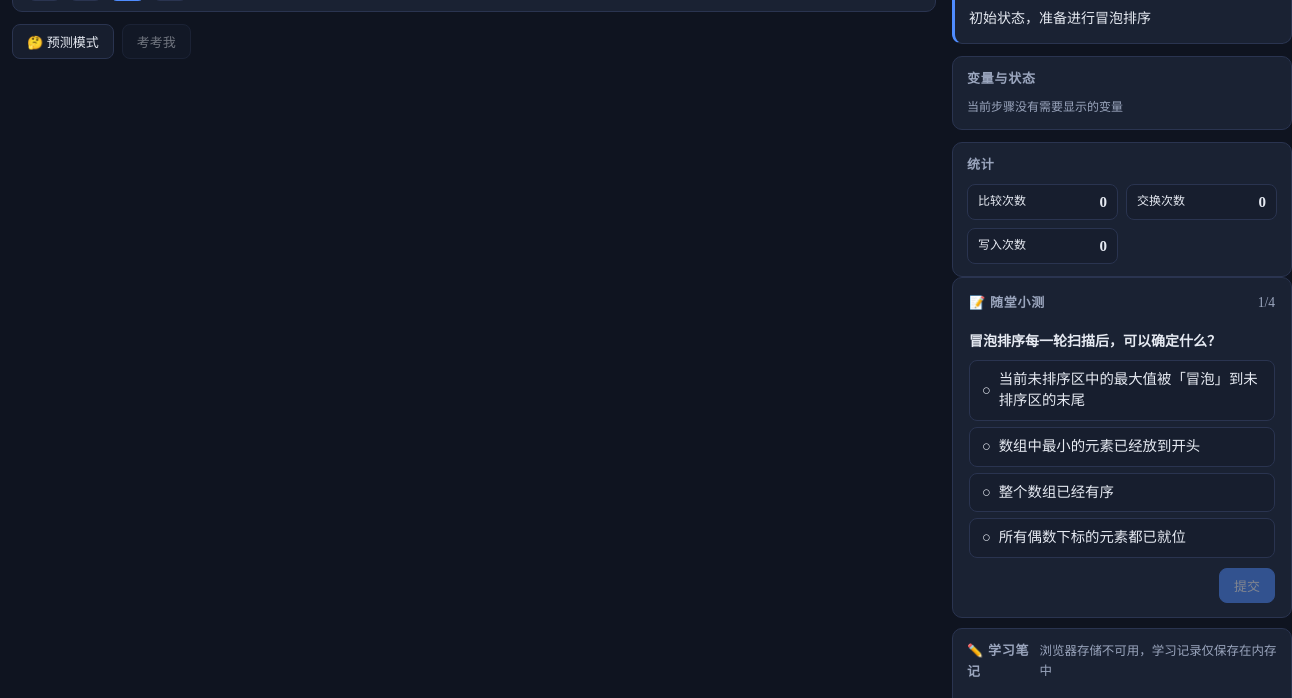
算法页 Quiz 集成 › 同一轮内提交后锁定选项（可更换答案需重开一轮）
(page scrolled)
What coordinates should you click on to do the following:
click the radio button labelled "○ 当前未排序区中的最大值被「冒泡」到未排序区的末尾"
I would click on:
 (1128, 379)
Its box is [969,360,1275,421].
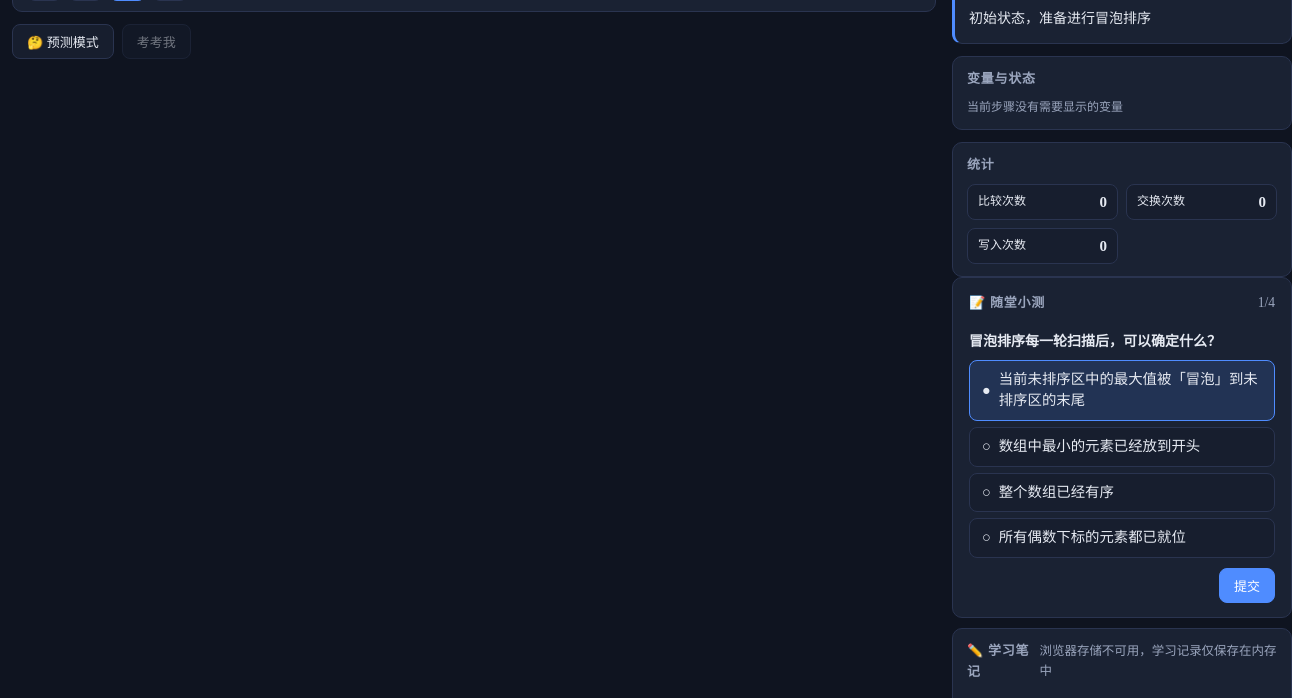
What coordinates should you click on to do the following:
click the button "提交"
I would click on:
 (1247, 585)
Its box is [1219,568,1275,603].
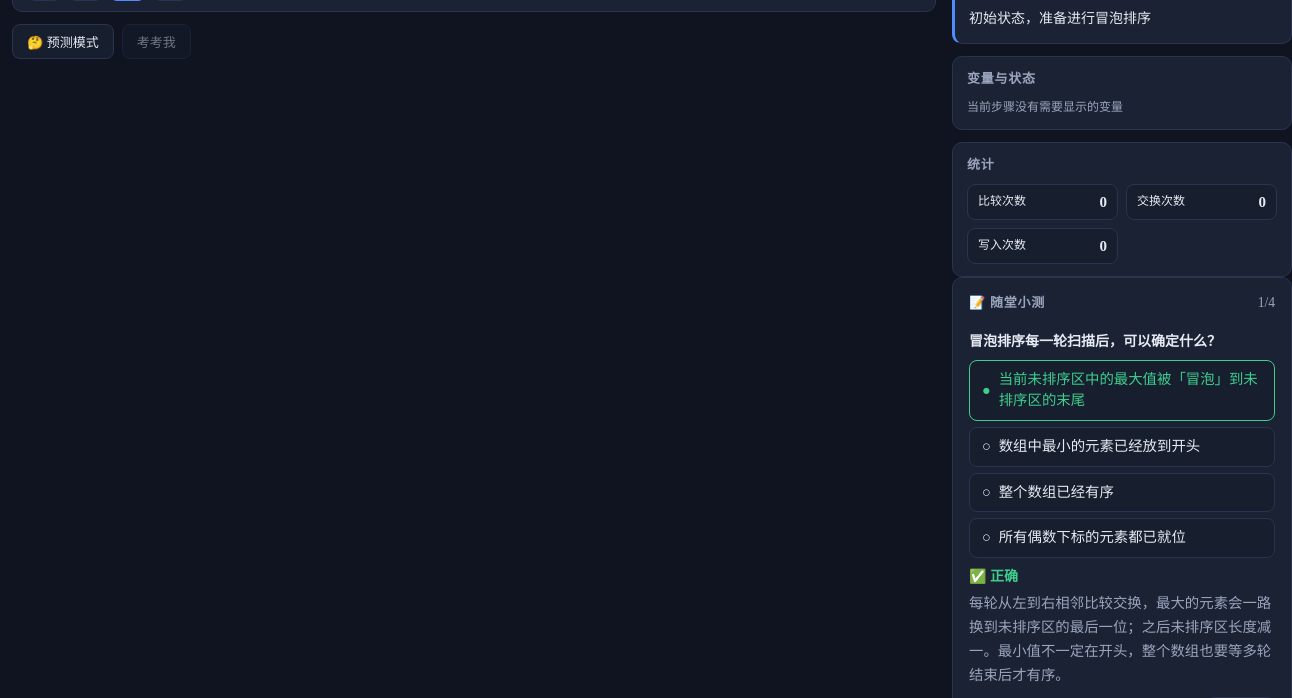
Check: the radio button labelled "○ 数组中最小的元素已经放到开头" is disabled, box [969,427,1275,467]
Check: the radio button labelled "● 当前未排序区中的最大值被「冒泡」到未排序区的末尾" is disabled, box [969,360,1275,421]
Check: the button "提交" is gone
